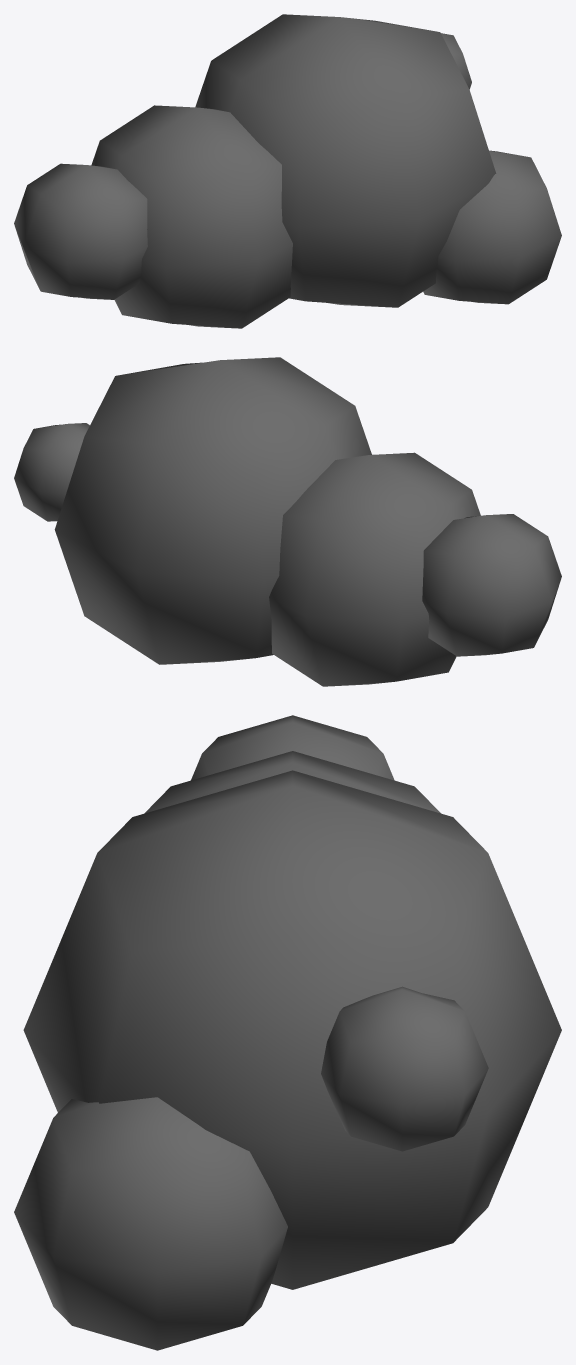
Rendered from nuage_gris_unit.glb.
The picture shows the model from 3 angles, top to bottom: view 1: azimuth 30°, elevation 25°; view 2: azimuth 150°, elevation 25°; view 3: azimuth 270°, elevation 25°; orthographic projection. The views are drawn at different scales.
Visible parts, largest first — view 1: NUAGE.gris_unit, NUAGE.001, NUAGE.003, NUAGE.006, NUAGE.002; view 2: NUAGE.gris_unit, NUAGE.001, NUAGE.003, NUAGE.002; view 3: NUAGE.gris_unit, NUAGE.006, NUAGE.002, NUAGE.003, NUAGE.001.
Part boxes in pixels (box(x1,y1,x2,y2)): NUAGE.gris_unit: box(195, 14, 496, 307); NUAGE.001: box(91, 105, 292, 328); NUAGE.003: box(14, 163, 147, 299); NUAGE.006: box(423, 150, 561, 304); NUAGE.002: box(441, 33, 471, 89); NUAGE.gris_unit: box(54, 357, 371, 664); NUAGE.001: box(269, 452, 480, 686); NUAGE.003: box(422, 514, 561, 656); NUAGE.002: box(14, 423, 89, 521); NUAGE.gris_unit: box(23, 770, 561, 1289); NUAGE.006: box(14, 1097, 287, 1350); NUAGE.002: box(321, 986, 488, 1151); NUAGE.003: box(191, 715, 394, 780); NUAGE.001: box(144, 751, 440, 813).
Size of the model in its own units: 7.12 by 4.01 by 4.08.
1 material, 1 textured.
